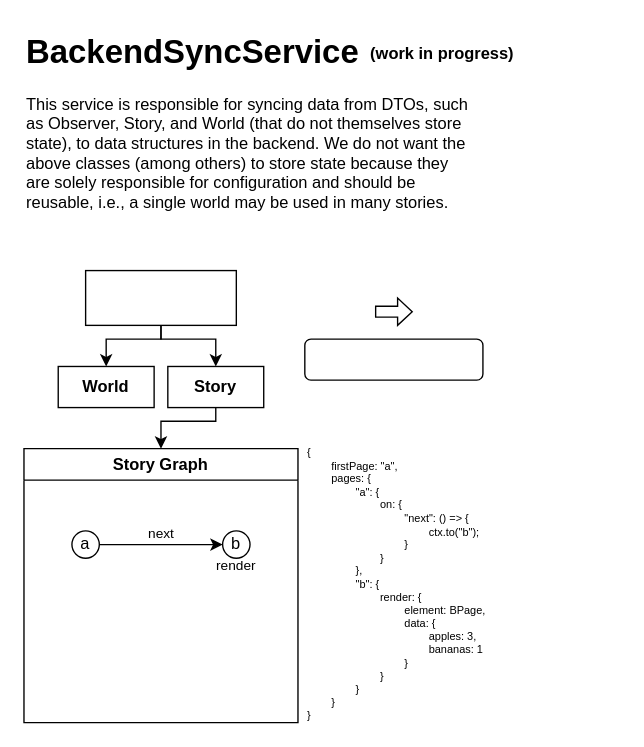
Image size: 644x747. Some labels were removed from this diagram. Here are the shapes that lost their labels. From the top down, the centre of each, then its label:
At [160,297]: "Observer".
At [393,359]: "BackendSyncService".
